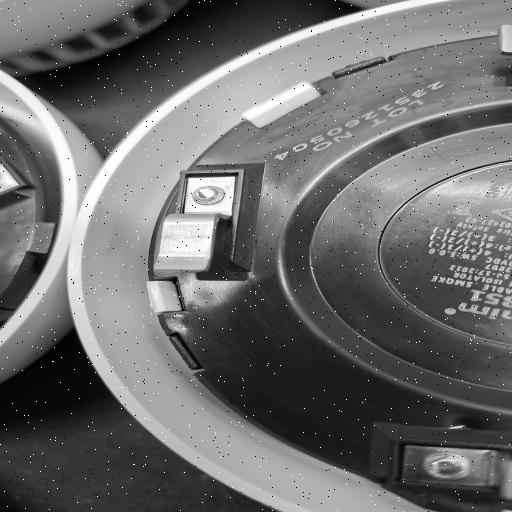yaysiz: (142, 164, 271, 312)
